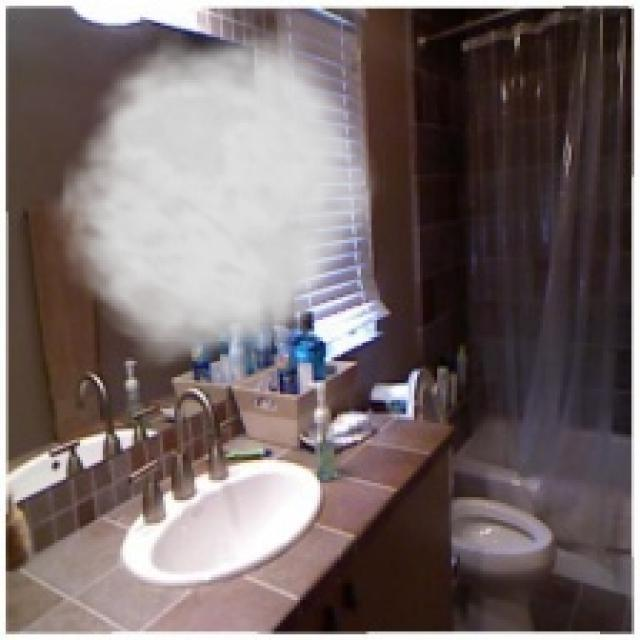Smoke: (43, 17, 386, 372)
